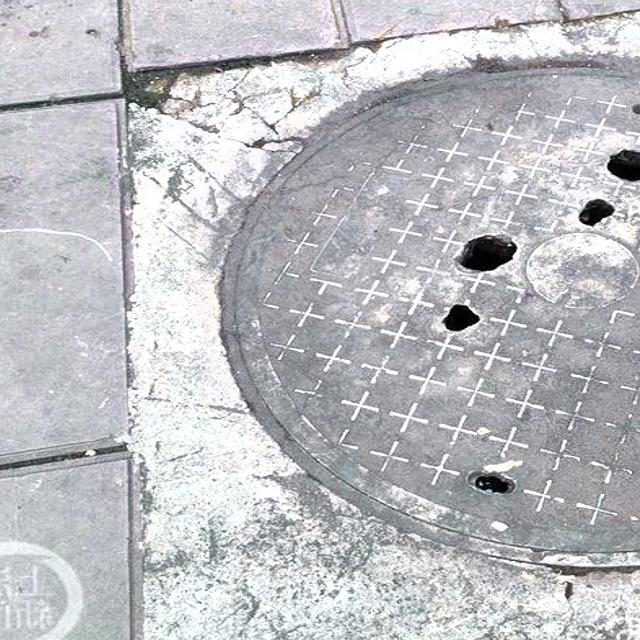circle: (96, 0, 640, 640)
